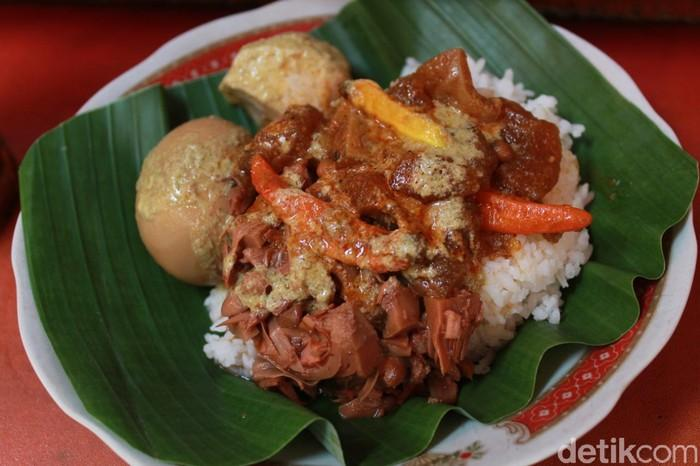gudeg: (134, 33, 594, 423)
